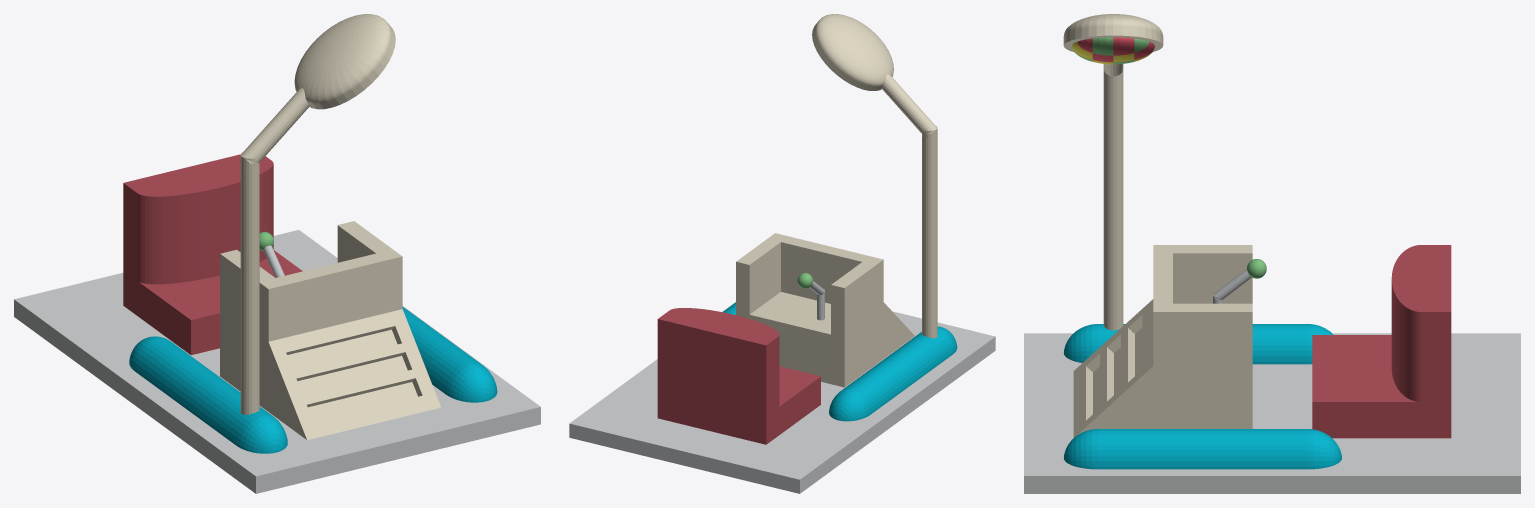
The model's file is time_machine.glb.
3 renders of one model, left to right at view 1: azimuth 30°, elevation 25°; view 2: azimuth 150°, elevation 25°; view 3: azimuth 270°, elevation 25°, orthographic. The views are drawn at different scales.
Visible parts, largest first — view 1: Mesh_Mesh_head_geo.001_lambert2SG.001; view 2: Mesh_Mesh_head_geo.001_lambert2SG.001; view 3: Mesh_Mesh_head_geo.001_lambert2SG.001.
Part boxes in pixels (bbox=[...]): Mesh_Mesh_head_geo.001_lambert2SG.001: bbox=[14, 14, 540, 493]; Mesh_Mesh_head_geo.001_lambert2SG.001: bbox=[569, 14, 995, 493]; Mesh_Mesh_head_geo.001_lambert2SG.001: bbox=[1024, 14, 1520, 493].
Size of the model in its own units: 13.6 by 18.43 by 20.
